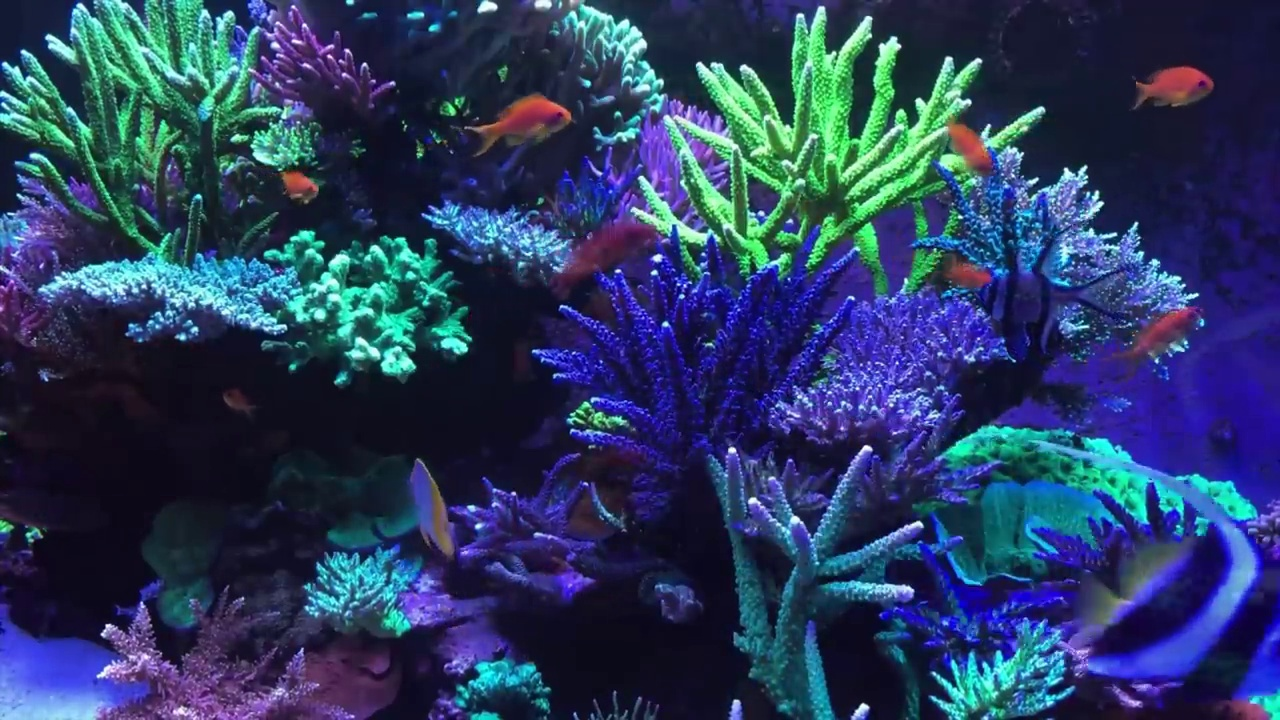fish: (1026, 436, 1280, 713), (970, 222, 1141, 360), (551, 221, 653, 298), (463, 92, 572, 158), (1109, 304, 1204, 377), (407, 459, 458, 557), (1133, 64, 1218, 111), (941, 116, 996, 178), (935, 251, 991, 290), (279, 169, 321, 204), (223, 386, 255, 413)
